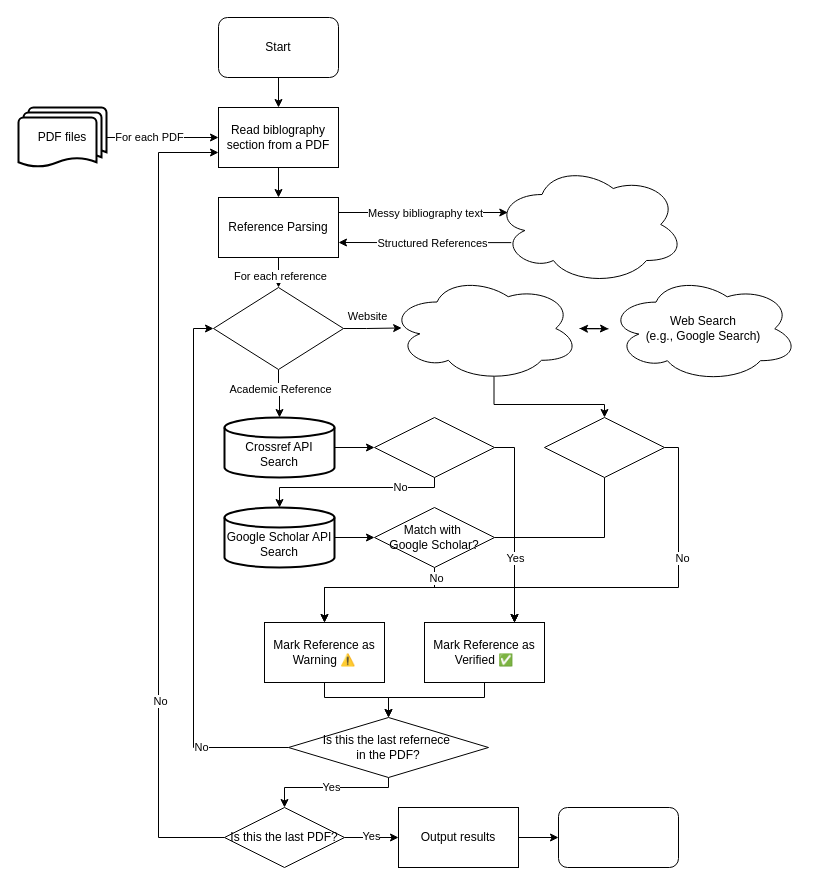
Image size: 816x885. Some labels were removed from this diagram. The shapes that lost their labels are listed below. From the top down, each one's box as (x1, y1, x2, y2) in pixels, then its label:
(494, 164, 684, 284): Large Language Model API (e.g., Google Gemini)
(212, 286, 344, 370): Check Reference Type
(388, 274, 580, 382): Large Language Model API with Web Search (e.g., Google Gemini)
(374, 416, 494, 478): Match with Corssref?
(544, 416, 664, 478): Match with Web Search?
(558, 806, 678, 868): End
